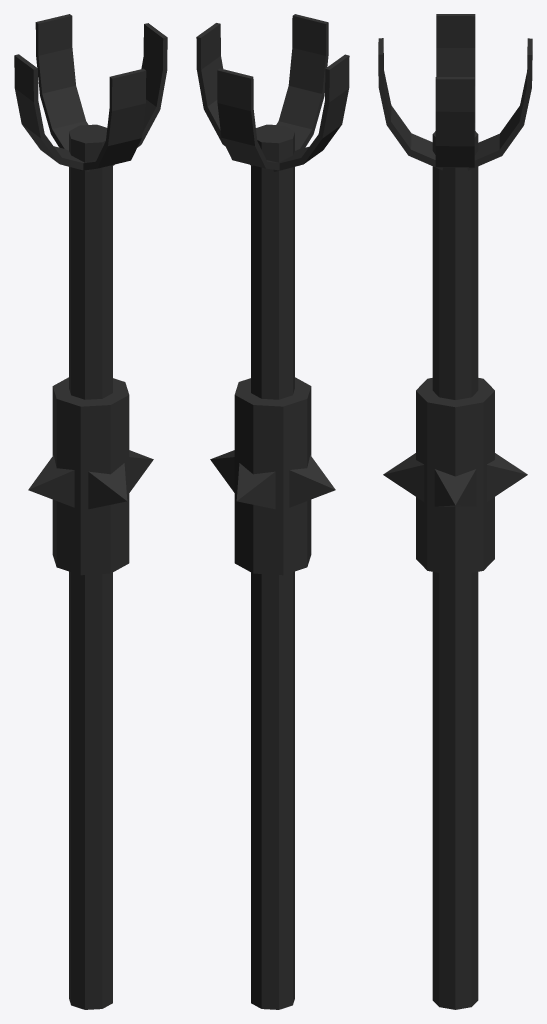
File: big_torch.fbx
The picture shows the model from 3 angles, left to right: view 1: azimuth 30°, elevation 25°; view 2: azimuth 150°, elevation 25°; view 3: azimuth 270°, elevation 25°; orthographic projection.
Visible parts, largest first — view 1: big torch; view 2: big torch; view 3: big torch.
Boxes of the visible parts, x1=… form: big torch: x1=14, y1=14, x2=167, y2=1009; big torch: x1=196, y1=14, x2=349, y2=1009; big torch: x1=378, y1=14, x2=532, y2=1009.
Bounding box in the file's own units: 303 × 2063 × 303.
